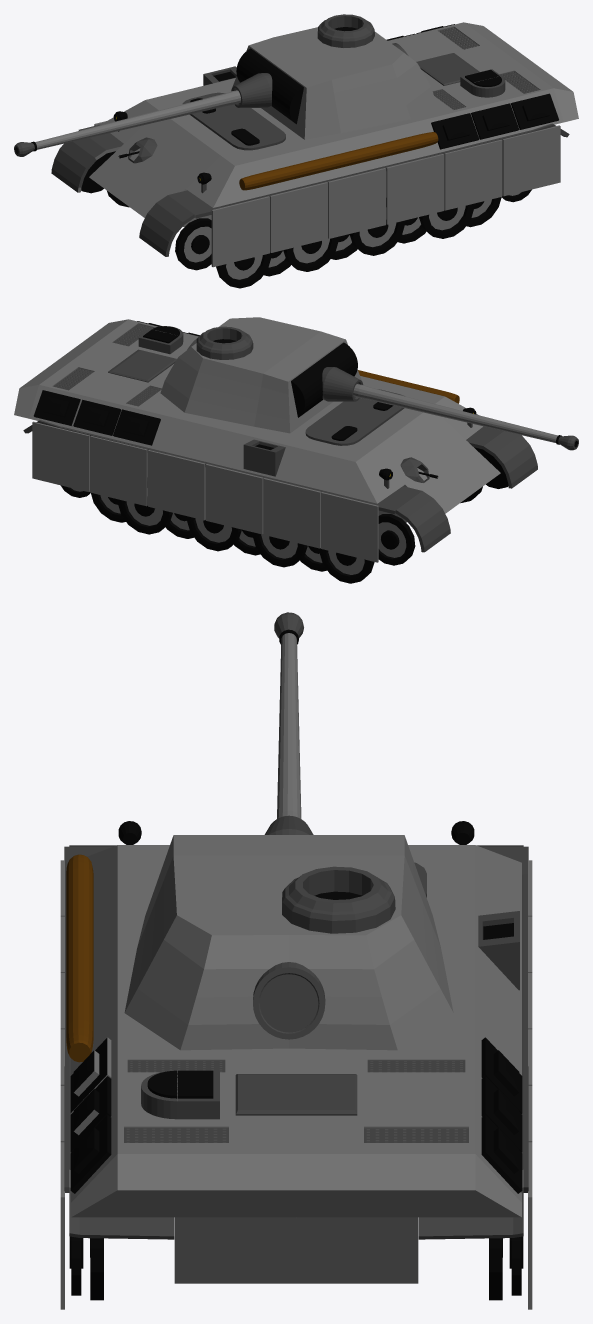
File: PantherTank.fbx
3 views of the same model, one above another, from view 1: azimuth 30°, elevation 25°; view 2: azimuth 150°, elevation 25°; view 3: azimuth 270°, elevation 25° (orthographic). The views are drawn at different scales.
Parts seen in each view (by area): view 1: TankBody, TankTower; view 2: TankBody, TankTower; view 3: TankBody, TankTower.
Part boxes in pixels (x1=…): TankBody: x1=51, y1=22, x2=578, y2=288; TankTower: x1=14, y1=14, x2=435, y2=156; TankBody: x1=14, y1=319, x2=537, y2=583; TankTower: x1=160, y1=317, x2=578, y2=450; TankBody: x1=60, y1=821, x2=532, y2=1309; TankTower: x1=124, y1=612, x2=453, y2=1050.
Size of the model in its own units: 473 by 153 by 190.
